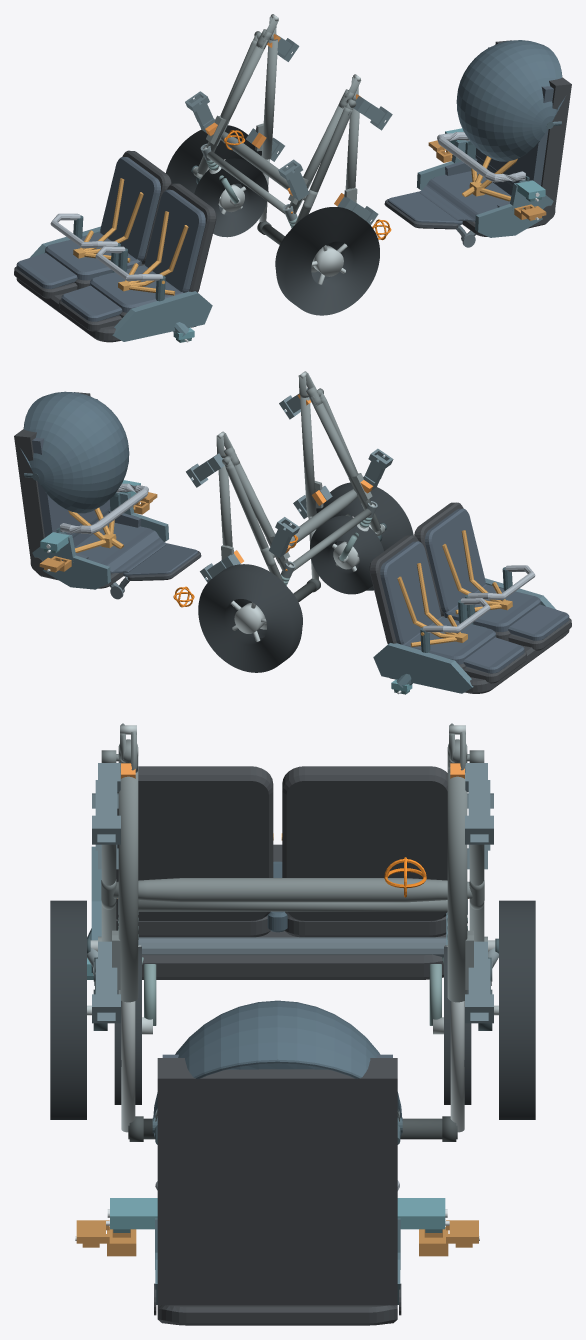
Rendered from D23_w650_state3_wheel_L.glb.
3 renders of one model, top to bottom at view 1: azimuth 30°, elevation 25°; view 2: azimuth 150°, elevation 25°; view 3: azimuth 270°, elevation 25°, orthographic. The views are drawn at different scales.
Visible parts, largest first — view 1: D23_Upper, D23_Lower, RL_tire.011, D23_Lower_Mount_L, FR_tire.011, RR_tire.011, main_upper_1.012, main_lower_1.012, V46_rear_leg_-1.011, V46_rearbar.011, main_lower_-1.012, main_upper_-1.012 (+7 smaller); view 2: D23_Upper, D23_Lower, RR_tire.011, FL_tire.011, D23_Lower_Mount_L, RL_tire.011, main_upper_-1.012, main_lower_-1.012, V46_rear_leg_1.011, V46_rearbar.011, main_lower_1.012, main_upper_1.012 (+8 smaller); view 3: D23_Lower, D23_Upper, RL_tire.011, RR_tire.011, V46_rearbar.011, main_upper_1.012, main_upper_-1.012, D23_Lower_Mount_L, front_fixed_round_tube.011, Universal_Cabin_Receiver_M_-1, Universal_Cabin_Receiver_M_1, handle_slider_1.013 (+12 smaller).
Boxes of the visible parts, bbox=[...] form: D23_Upper: bbox=[14, 150, 216, 342]; D23_Lower: bbox=[384, 40, 571, 247]; RL_tire.011: bbox=[276, 207, 379, 315]; D23_Lower_Mount_L: bbox=[417, 128, 553, 237]; FR_tire.011: bbox=[194, 158, 268, 237]; RR_tire.011: bbox=[166, 125, 262, 211]; main_upper_1.012: bbox=[261, 39, 277, 159]; main_lower_1.012: bbox=[206, 40, 267, 152]; V46_rear_leg_-1.011: bbox=[294, 107, 352, 225]; V46_rearbar.011: bbox=[220, 131, 306, 200]; main_lower_-1.012: bbox=[288, 104, 346, 213]; main_upper_-1.012: bbox=[345, 100, 359, 189]; D23_Upper: bbox=[369, 502, 571, 693]; D23_Lower: bbox=[14, 391, 201, 599]; RR_tire.011: bbox=[198, 564, 302, 672]; FL_tire.011: bbox=[310, 515, 383, 594]; D23_Lower_Mount_L: bbox=[32, 480, 168, 589]; RL_tire.011: bbox=[316, 482, 413, 590]; main_upper_-1.012: bbox=[300, 397, 316, 516]; main_lower_-1.012: bbox=[310, 397, 371, 509]; V46_rear_leg_1.011: bbox=[225, 464, 283, 582]; V46_rearbar.011: bbox=[271, 489, 357, 557]; main_lower_1.012: bbox=[232, 462, 289, 571]; main_upper_1.012: bbox=[218, 458, 232, 546]; D23_Lower: bbox=[152, 1000, 402, 1325]; D23_Upper: bbox=[91, 766, 447, 979]; RL_tire.011: bbox=[50, 900, 86, 1119]; RR_tire.011: bbox=[499, 900, 535, 1119]; V46_rearbar.011: bbox=[113, 878, 472, 902]; main_upper_1.012: bbox=[447, 770, 467, 1002]; main_upper_-1.012: bbox=[118, 770, 138, 1002]; D23_Lower_Mount_L: bbox=[106, 1198, 449, 1304]; front_fixed_round_tube.011: bbox=[138, 900, 447, 911]; Universal_Cabin_Receiver_M_-1: bbox=[92, 763, 120, 844]; Universal_Cabin_Receiver_M_1: bbox=[465, 763, 493, 844]; handle_slider_1.013: bbox=[450, 1001, 464, 1132].
Bounding box in the file's own units: 1.89 × 0.7826 × 0.796.
